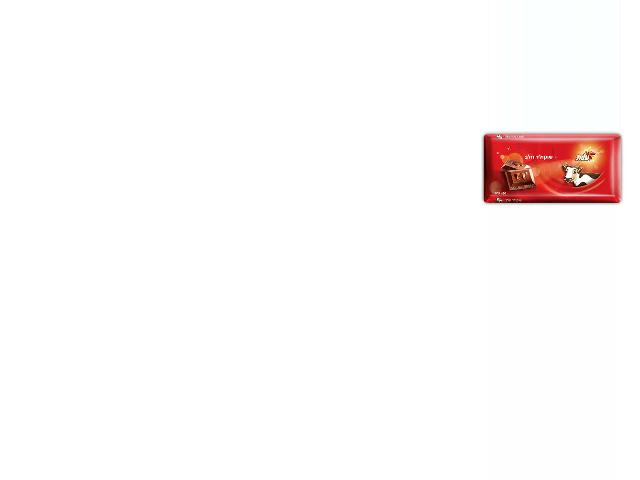chocolate: (481, 133, 628, 208)
